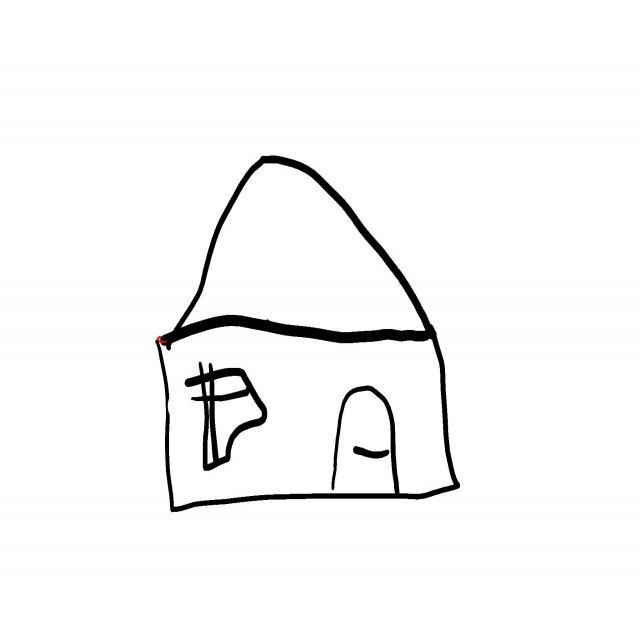door: (332, 387, 400, 494)
house: (156, 156, 460, 512)
roof: (173, 156, 434, 338)
wall: (162, 318, 457, 510)
window: (184, 363, 268, 472)
